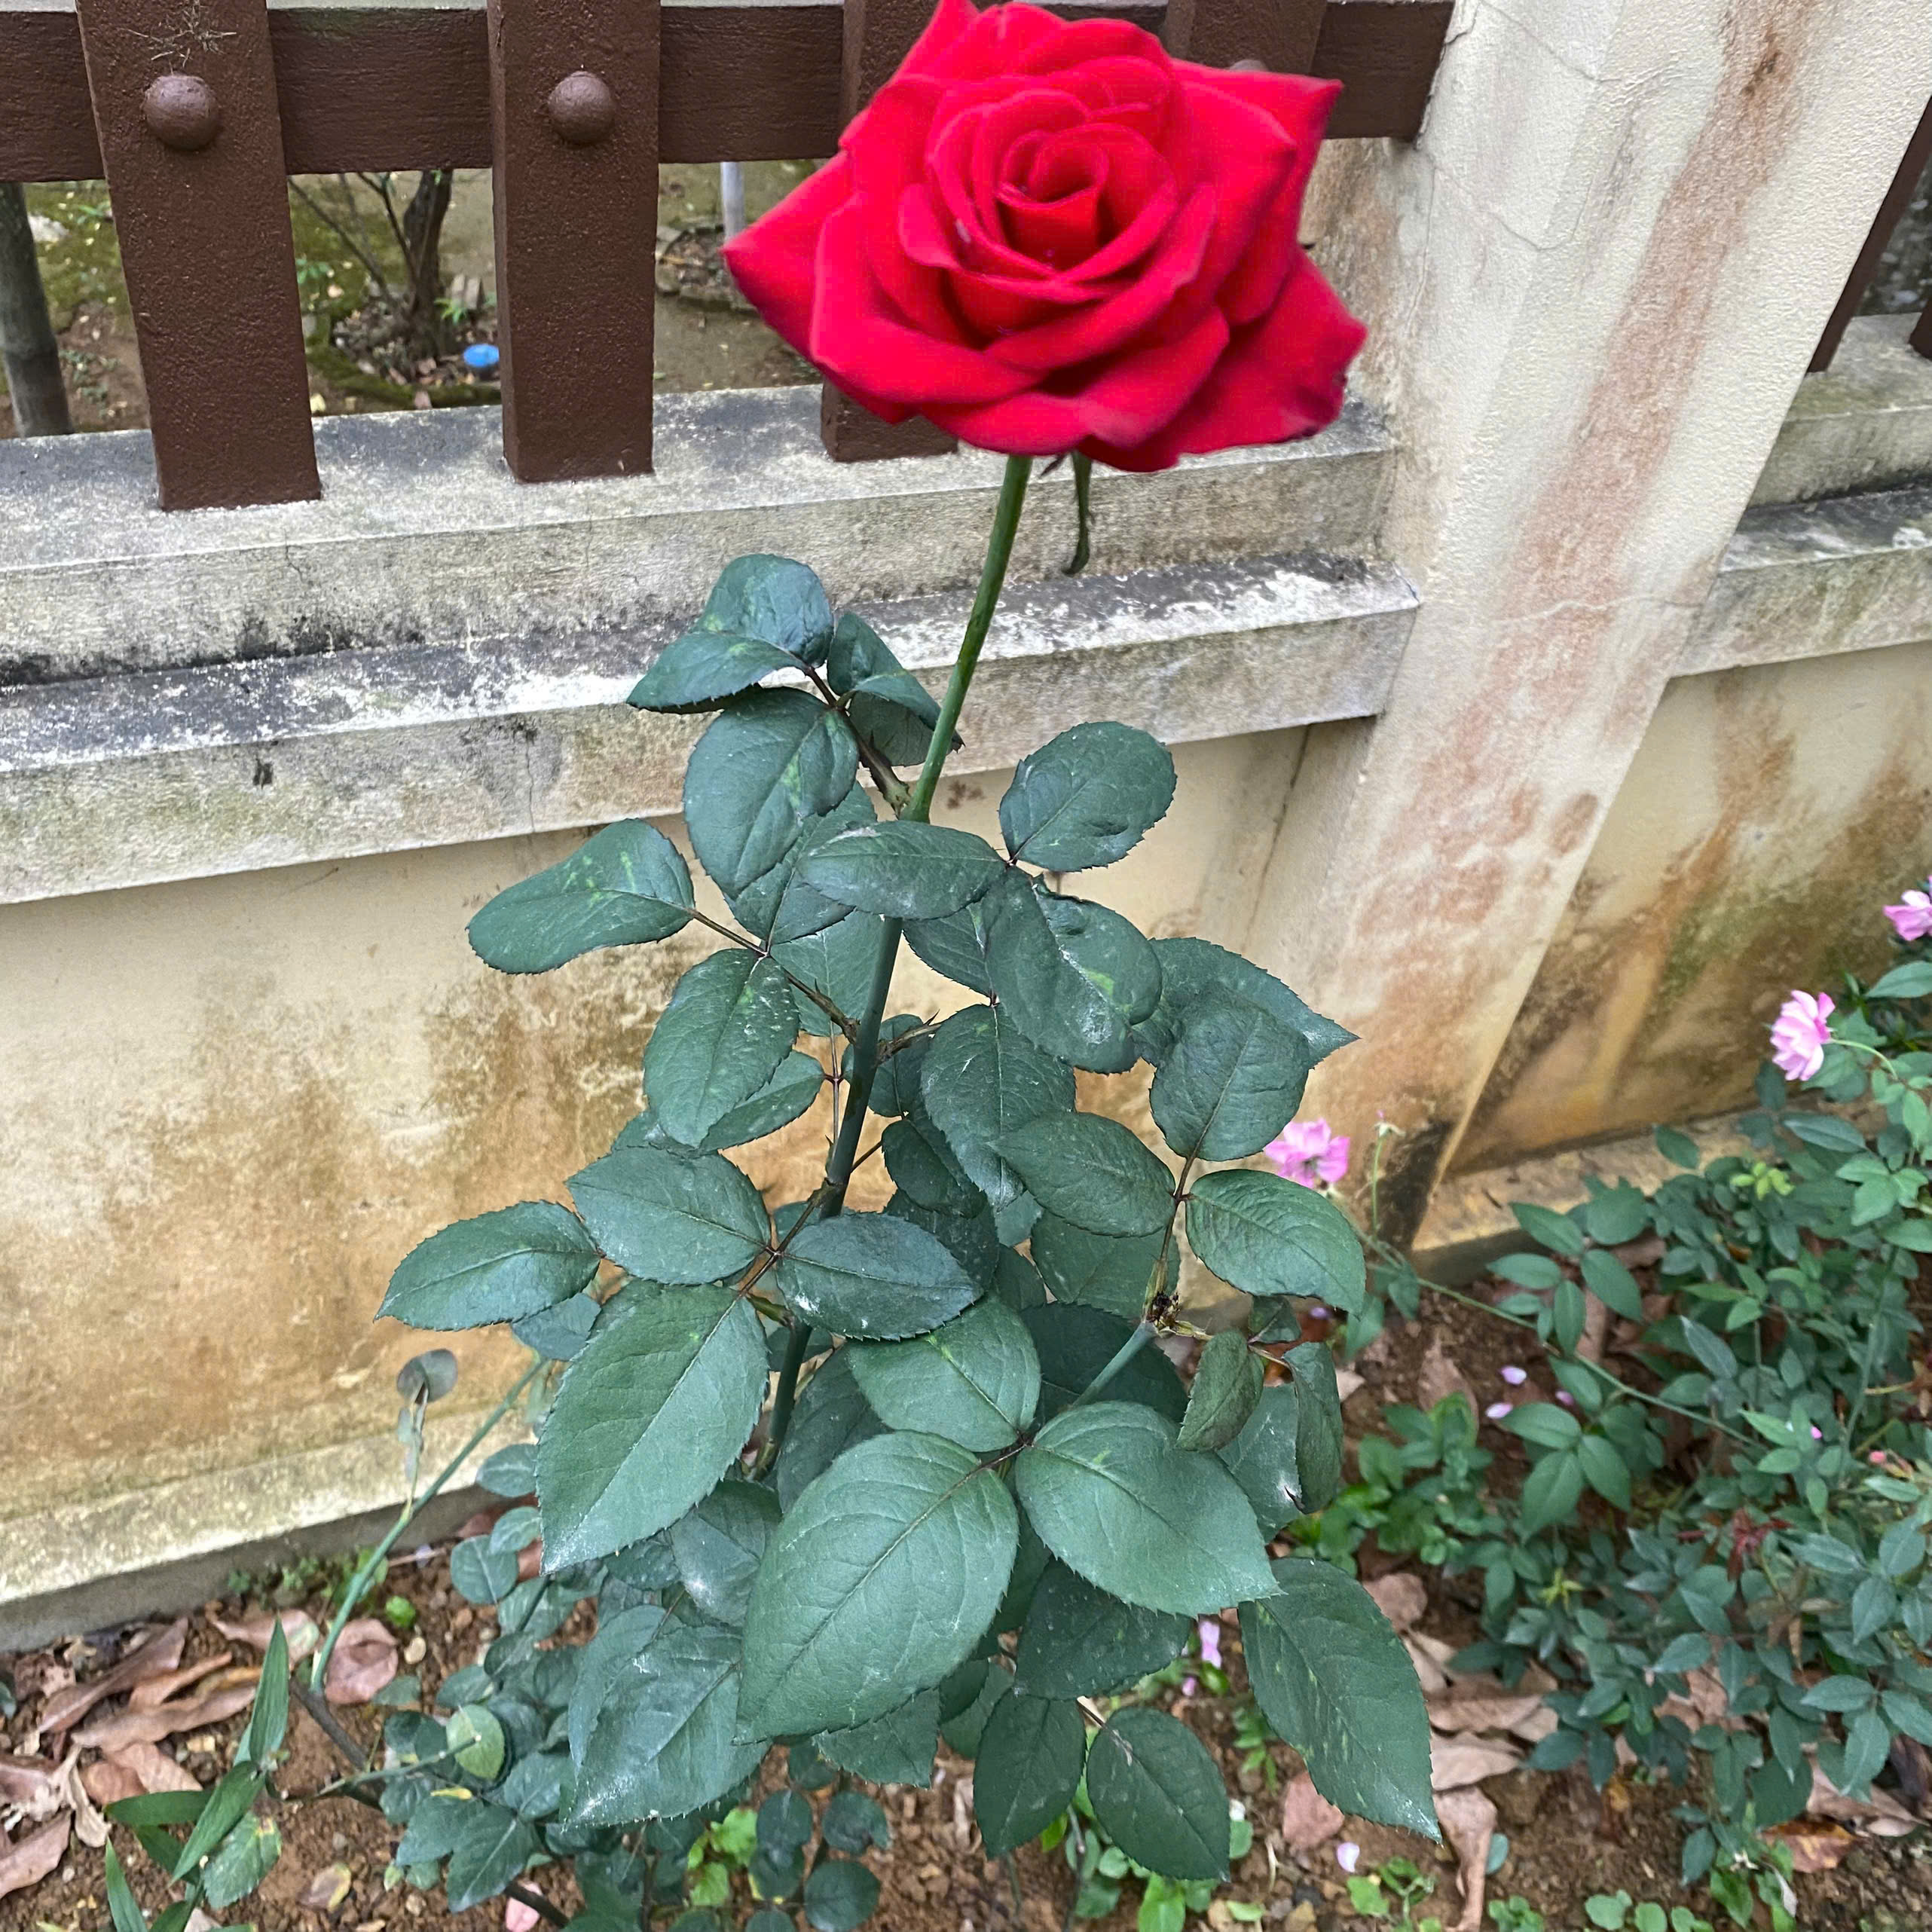hoa_hong_do: (350, 14, 1522, 1868)
